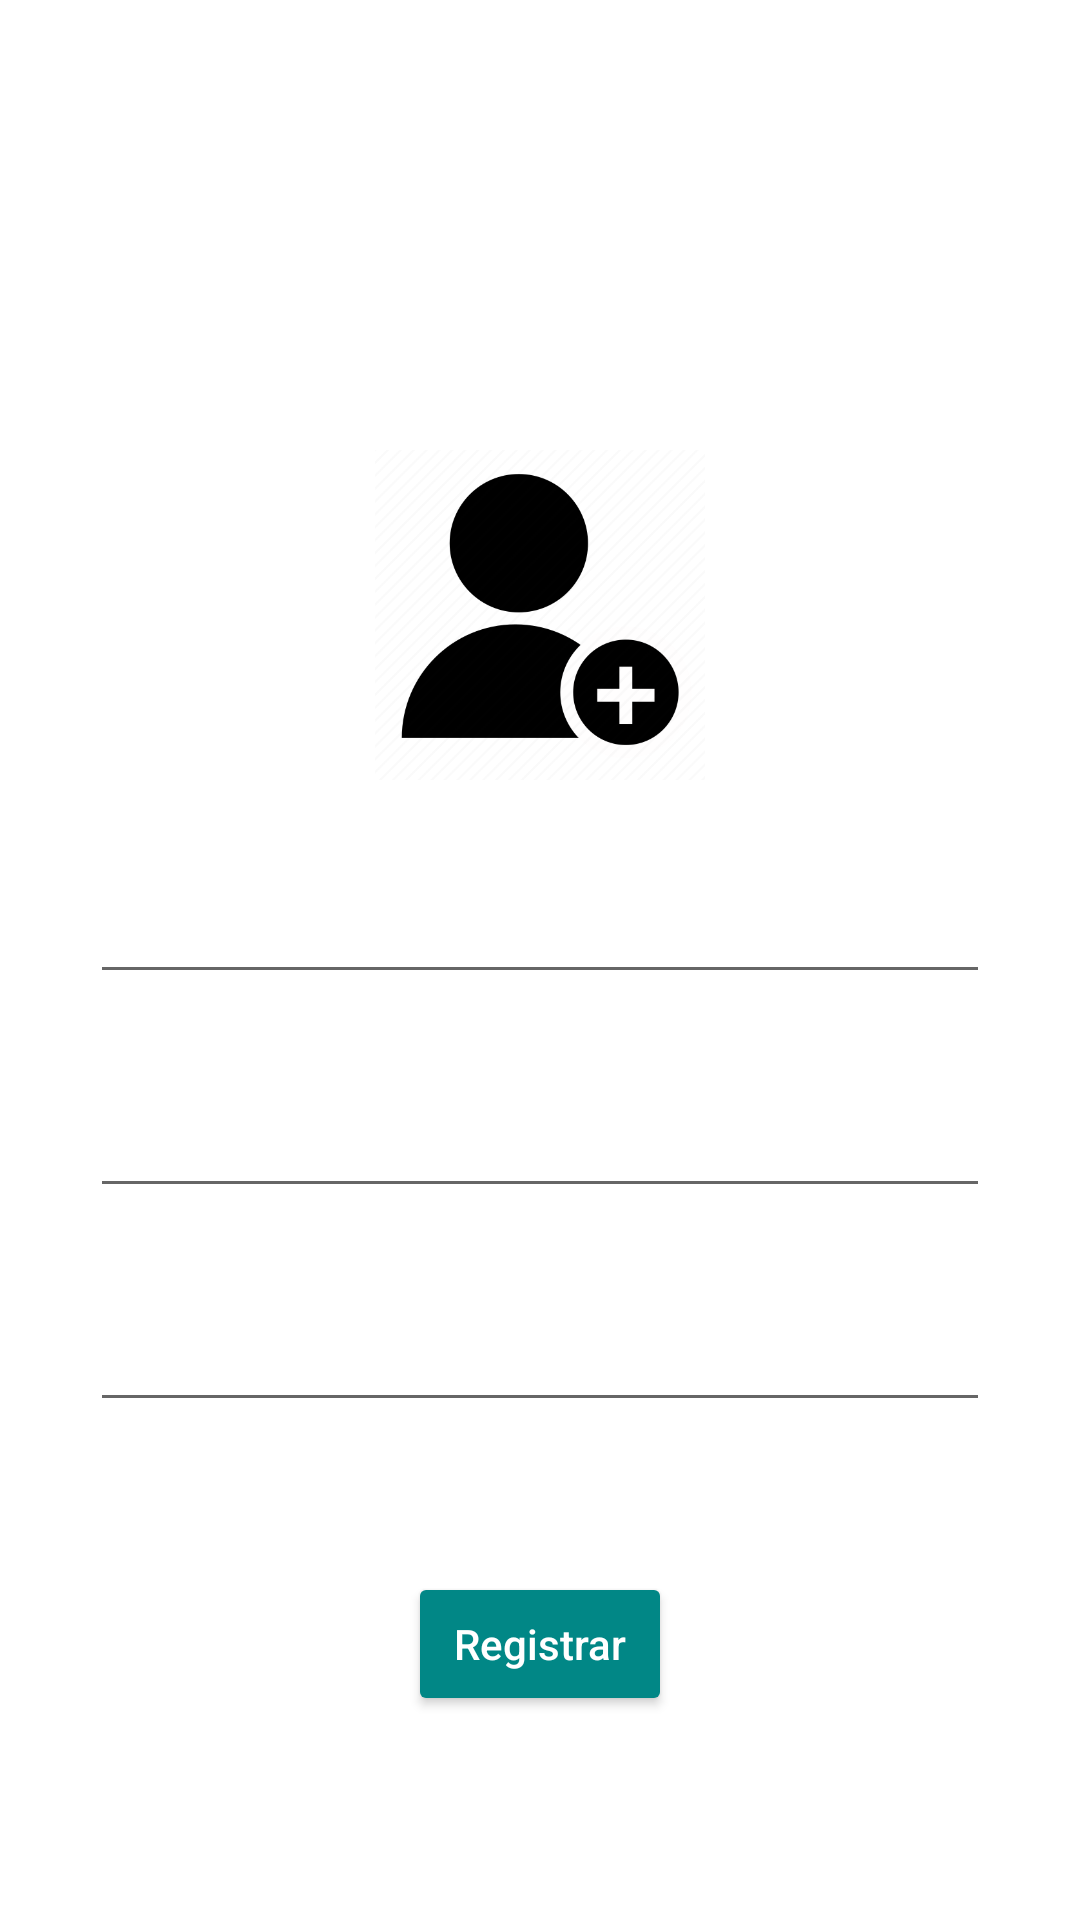

Where to tap for icons on this 1080w x 1920h app screen, as (x=x, y=y):
auser: (x=540, y=609)
